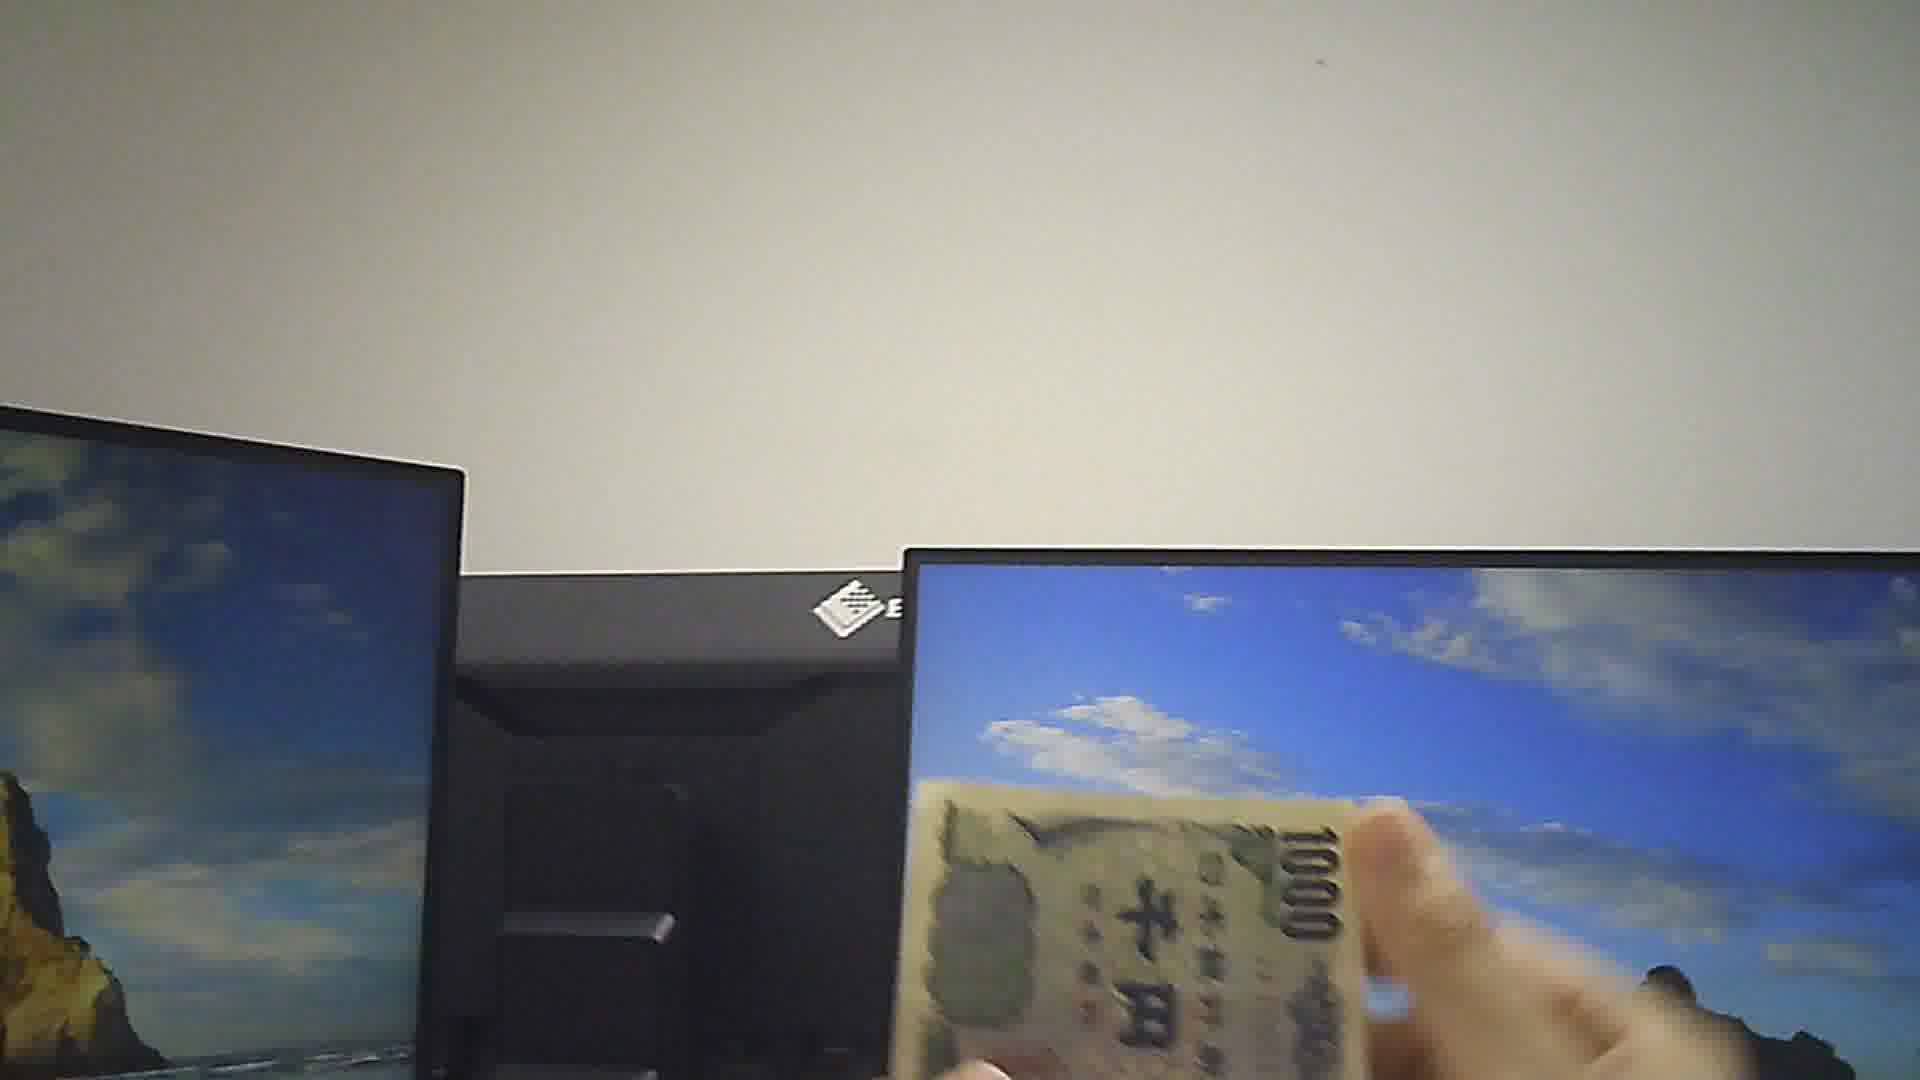1,000 Yen: (897, 762, 1373, 1079)
